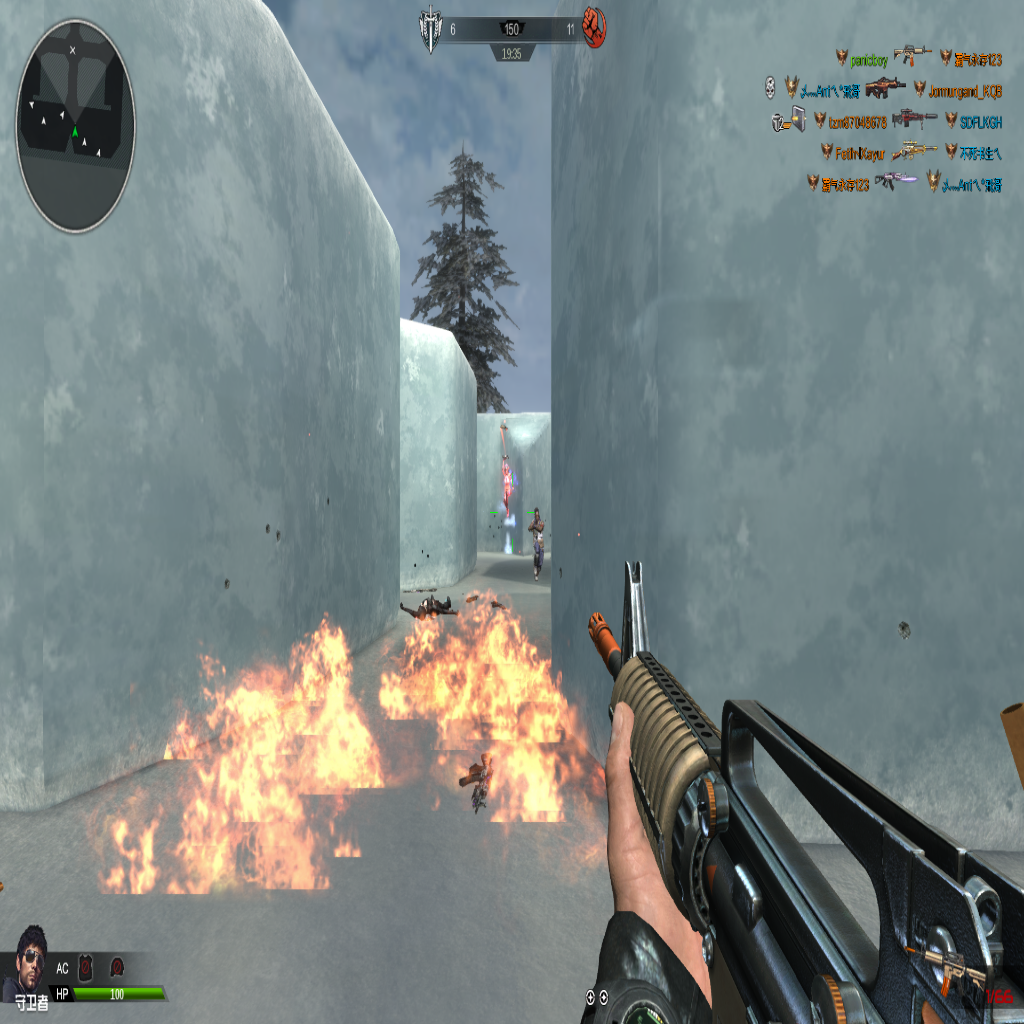tt: (530, 507, 545, 581)
